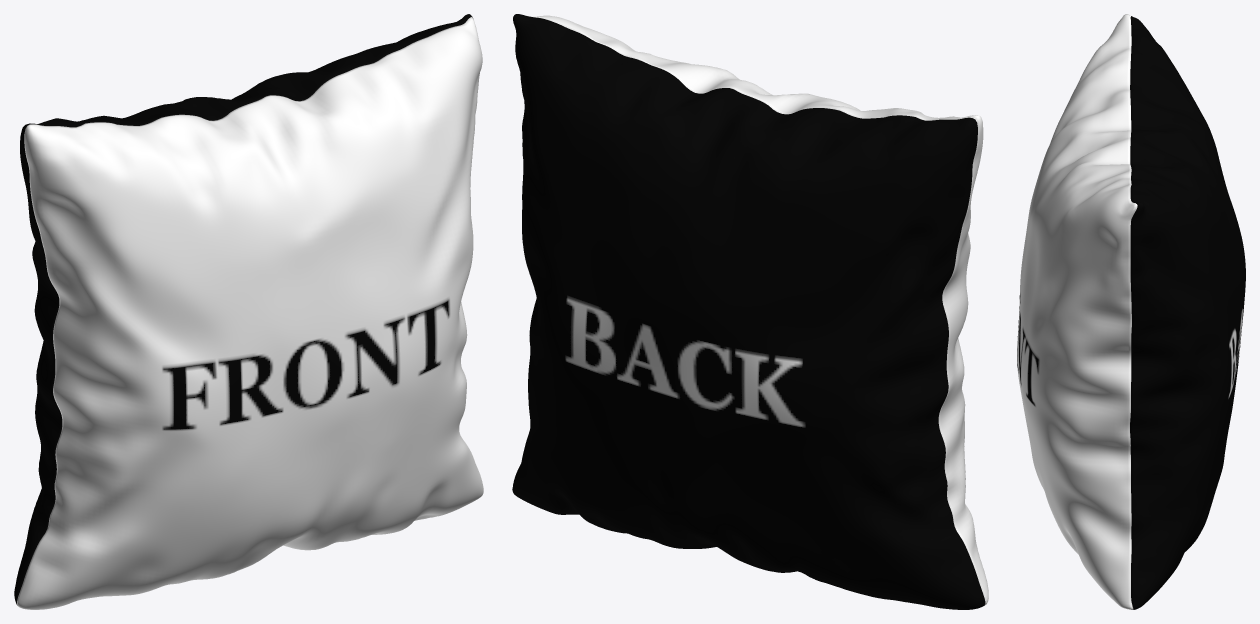
The model's file is Pillow_highpoly.gltf.
3 views of the same model, side by side, from view 1: azimuth 30°, elevation 25°; view 2: azimuth 150°, elevation 25°; view 3: azimuth 270°, elevation 25° (orthographic). The views are drawn at different scales.
Visible parts, largest first — view 1: Pillow_high poly; view 2: Pillow_high poly; view 3: Pillow_high poly.
Boxes of the visible parts, left/top/right/bottom form: Pillow_high poly: left=14, top=14, right=483, bottom=609; Pillow_high poly: left=512, top=14, right=988, bottom=609; Pillow_high poly: left=1017, top=14, right=1245, bottom=609.
Bounding box in the file's own units: 0.4 × 0.4 × 0.2.
Materials: 2 (2 with a texture image).
